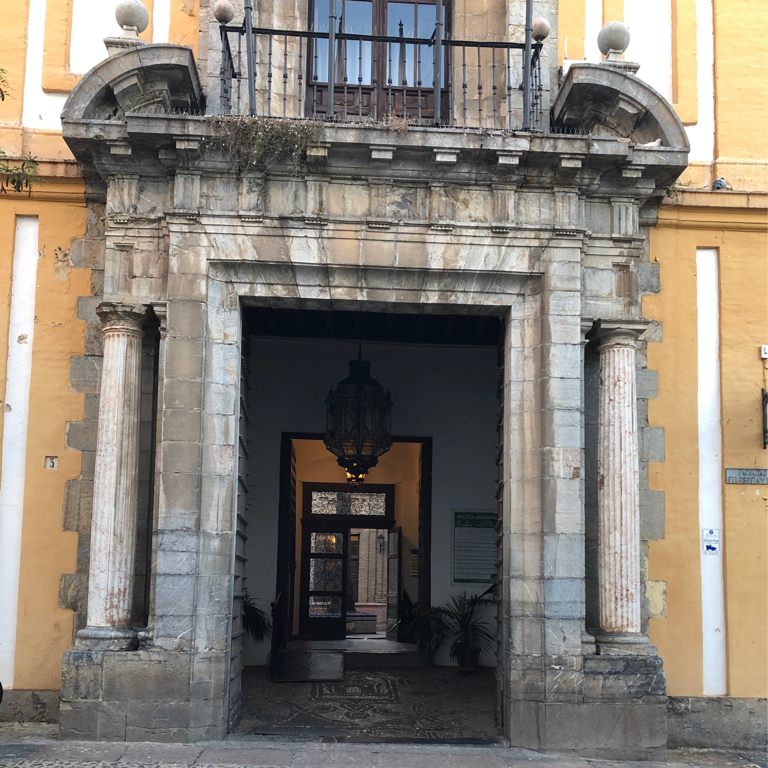fronton-partido: (86, 40, 693, 186)
vano-adintelado: (183, 246, 543, 728)
